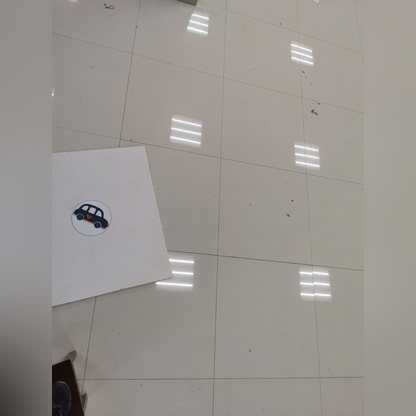car: (71, 204, 112, 237)
